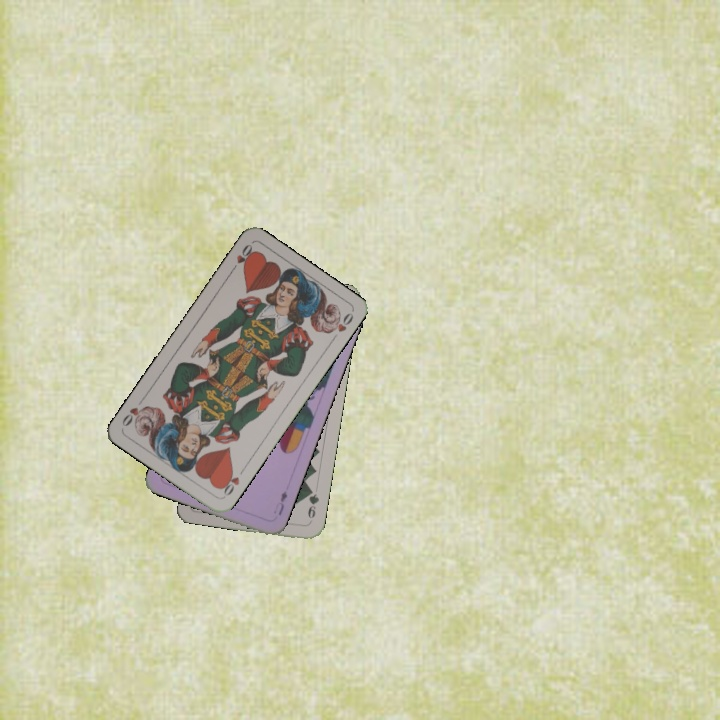EU: (270, 487, 290, 518)
G9: (304, 484, 321, 526)
HO: (216, 464, 247, 500), (226, 240, 257, 275)
